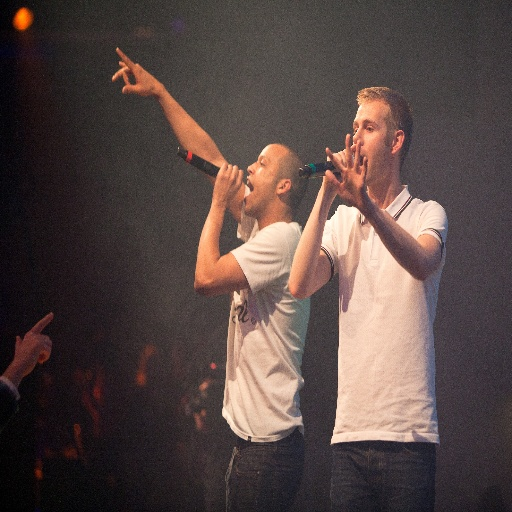hand: (5, 311, 51, 394), (323, 131, 368, 211), (110, 47, 161, 98), (210, 160, 244, 205), (324, 147, 356, 190)
